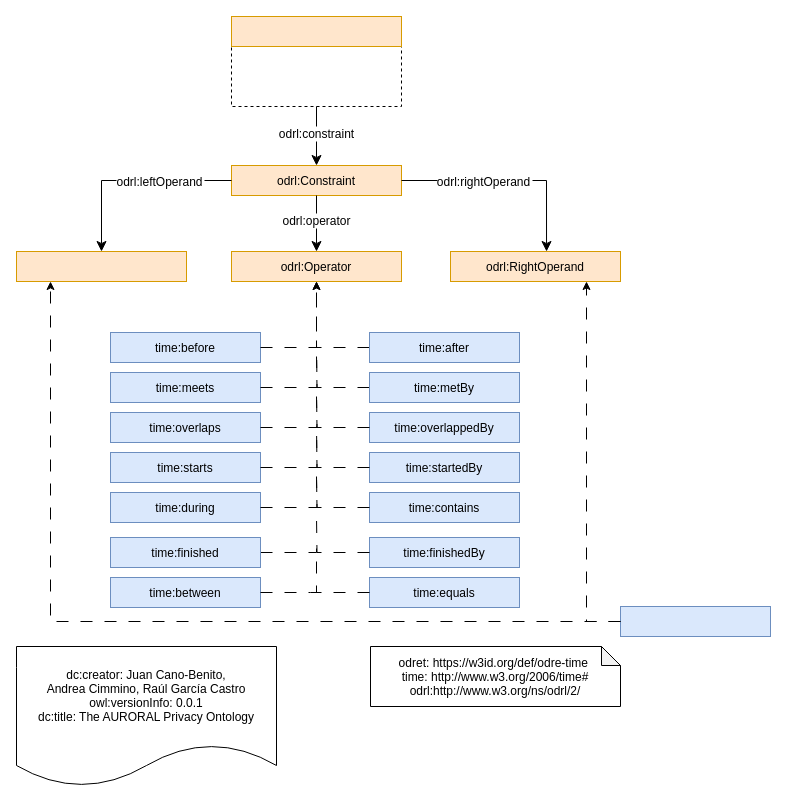
Image size: 787x801. Some labels were removed from this diagram. Here are the shapes that lost their labels. From the top down, the centre of each, then its label:
point (316, 31): odrl:Rule
point (316, 76): odrl:target: string odrl:assigner: string odrl:action: string
point (101, 266): priv:LeftOperand
point (695, 621): odret:time
